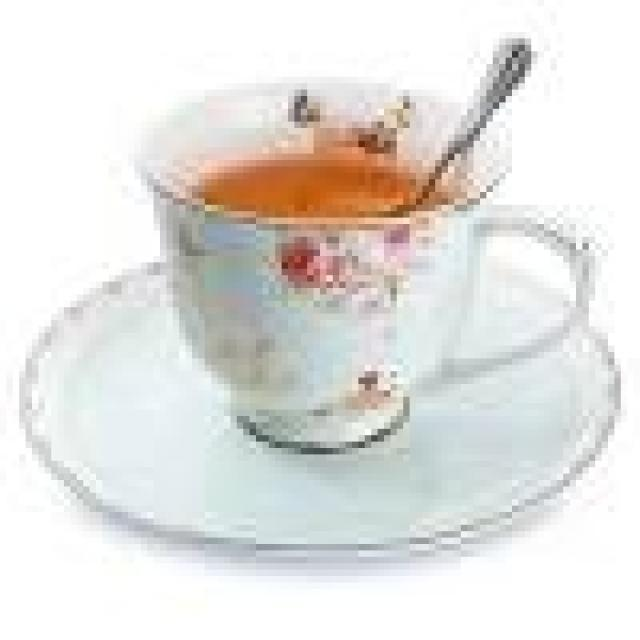taza: (110, 61, 606, 472)
